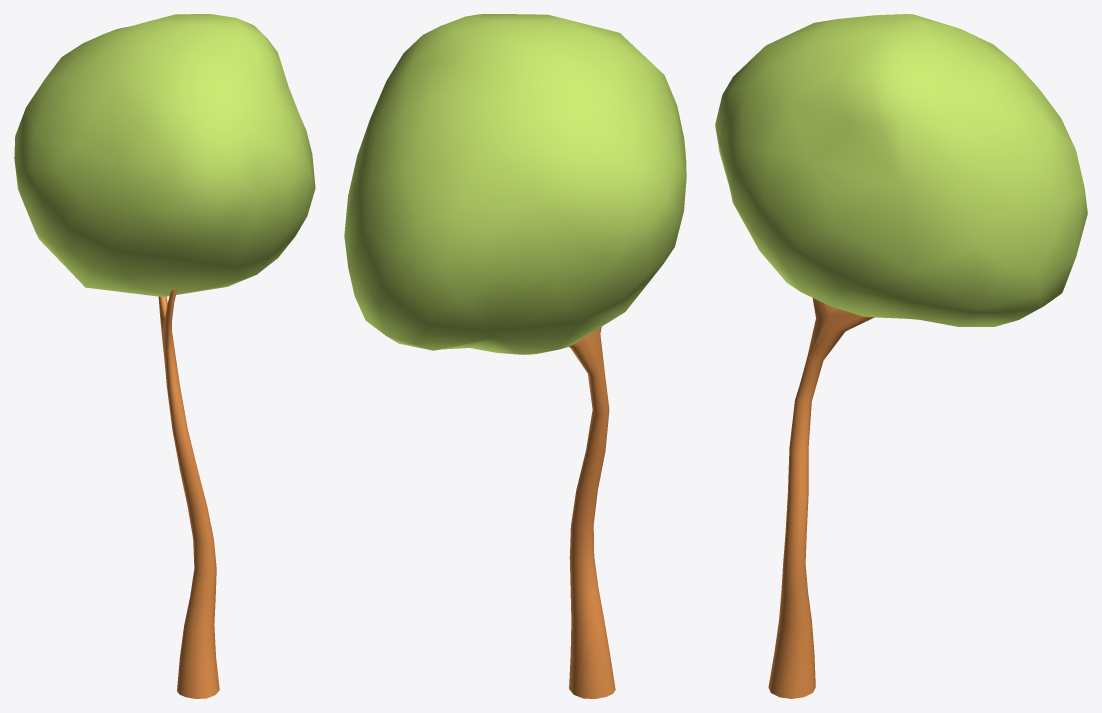
The model's file is Tree_I.fbx.
3 views of the same model, side by side, from view 1: azimuth 30°, elevation 25°; view 2: azimuth 150°, elevation 25°; view 3: azimuth 270°, elevation 25° (orthographic). The views are drawn at different scales.
Visible parts, largest first — view 1: Oak_Tree_m_05; view 2: Oak_Tree_m_05; view 3: Oak_Tree_m_05.
Boxes of the visible parts, x1,y1,x2,y2 form: Oak_Tree_m_05: (14,14,315,698); Oak_Tree_m_05: (344,14,686,698); Oak_Tree_m_05: (715,14,1087,698).
Bounding box in the file's own units: 331 × 753 × 377.
